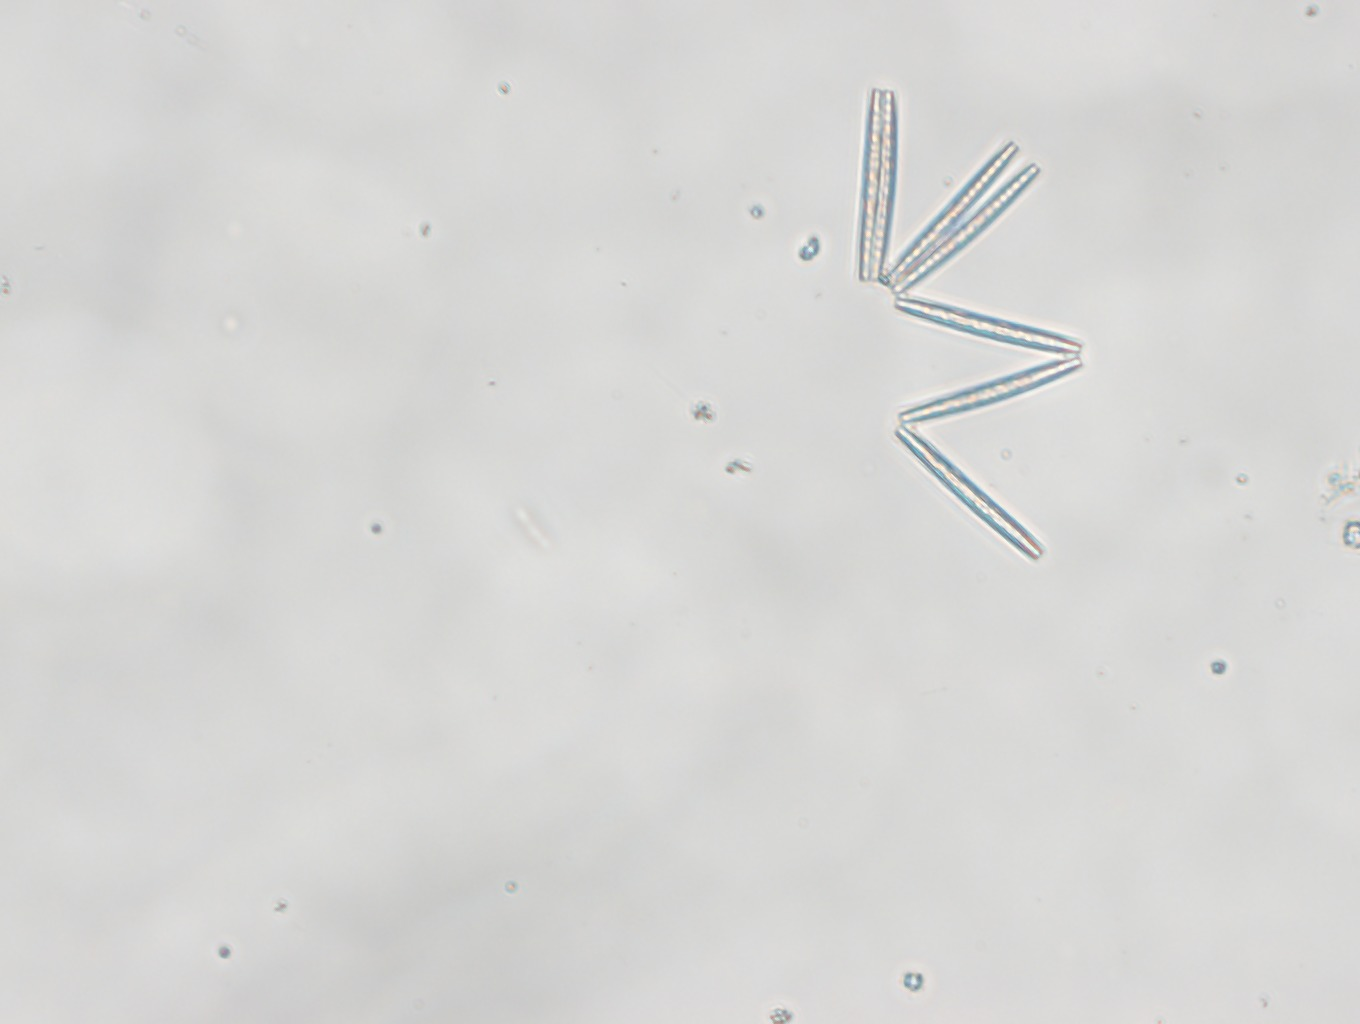thalassionema nitzschioides: (848, 80, 1089, 568)
